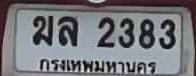2: (96, 16, 114, 47)
3: (158, 18, 175, 48), (117, 17, 134, 47)
8: (138, 18, 154, 48)
A06: (31, 14, 52, 44)
A36: (57, 15, 77, 45)
BKK: (37, 56, 159, 76)
